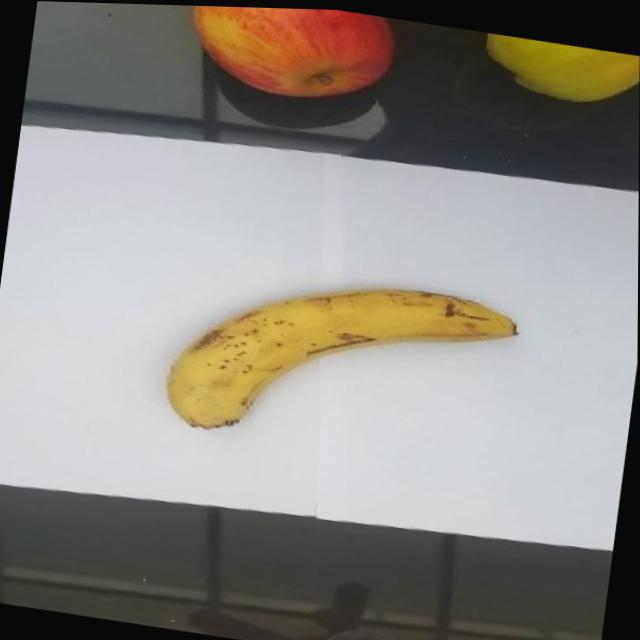Apple: (178, 4, 398, 109)
Banana: (158, 252, 528, 476)
